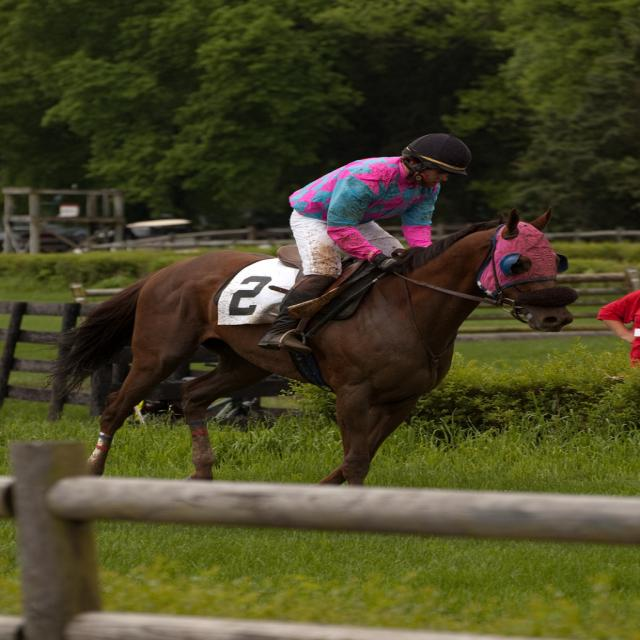Horse: (18, 206, 576, 490)
